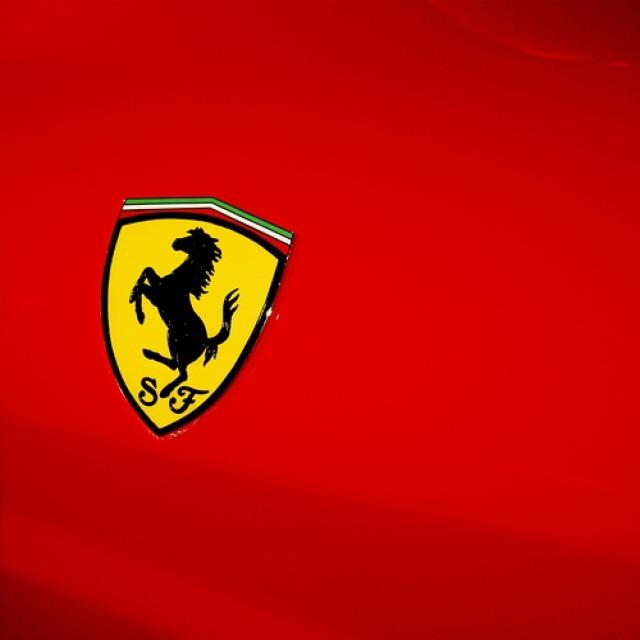ferrari: (101, 197, 300, 443)
